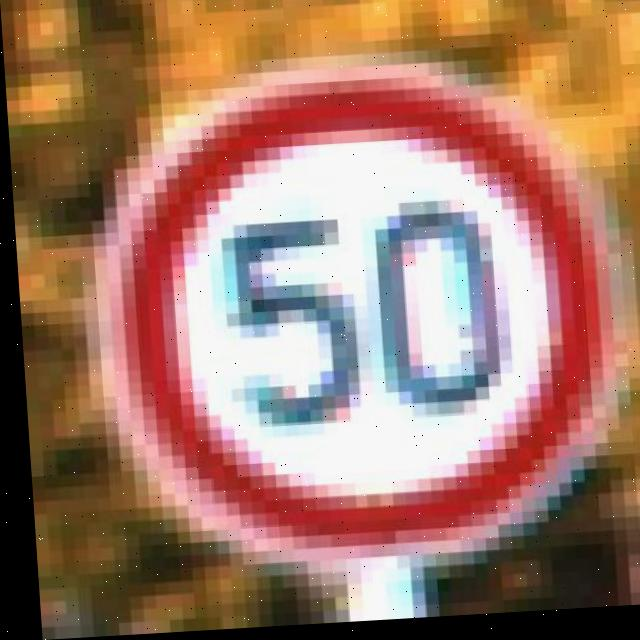Speed limit 50: (83, 61, 625, 576)
